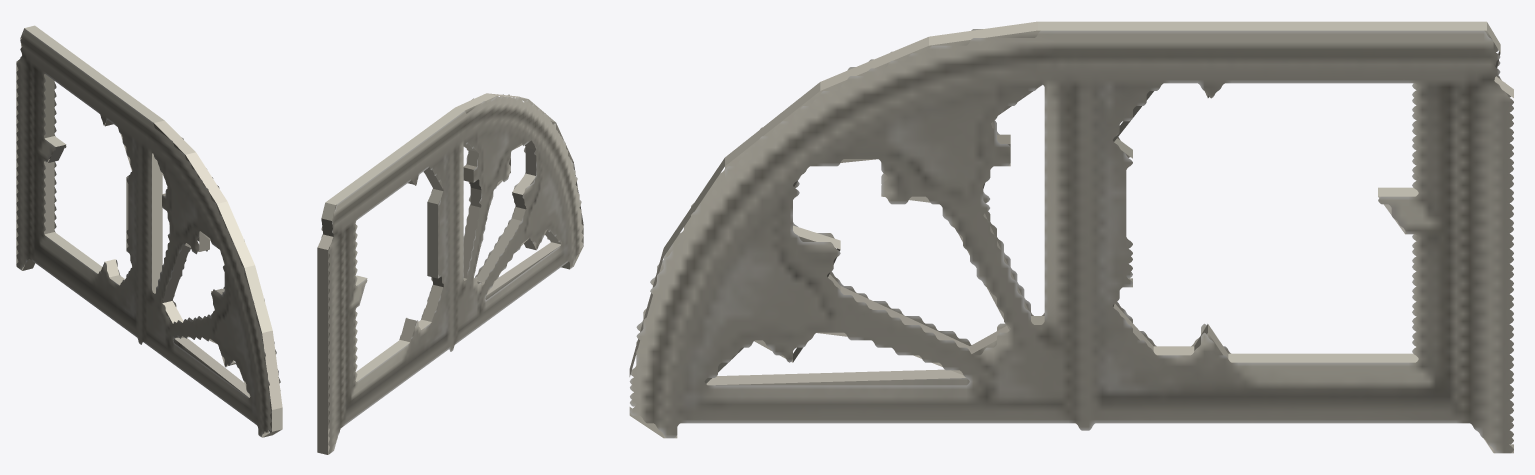
Rendered from pz_native_fixtures_windows_church_96_frame.obj.
3 renders of one model, left to right at view 1: azimuth 30°, elevation 25°; view 2: azimuth 150°, elevation 25°; view 3: azimuth 270°, elevation 25°, orthographic. The views are drawn at different scales.
Visible parts, largest first — view 1: pz_native_fixtures_windows_church_96_frame; view 2: pz_native_fixtures_windows_church_96_frame; view 3: pz_native_fixtures_windows_church_96_frame.
Part boxes in pixels (x1,y1,x2,y2): pz_native_fixtures_windows_church_96_frame: (16, 25, 282, 437); pz_native_fixtures_windows_church_96_frame: (317, 93, 583, 454); pz_native_fixtures_windows_church_96_frame: (629, 21, 1513, 453).
Size of the model in its own units: 0.04 by 0.9062 by 1.7.
1 material, 1 textured.
